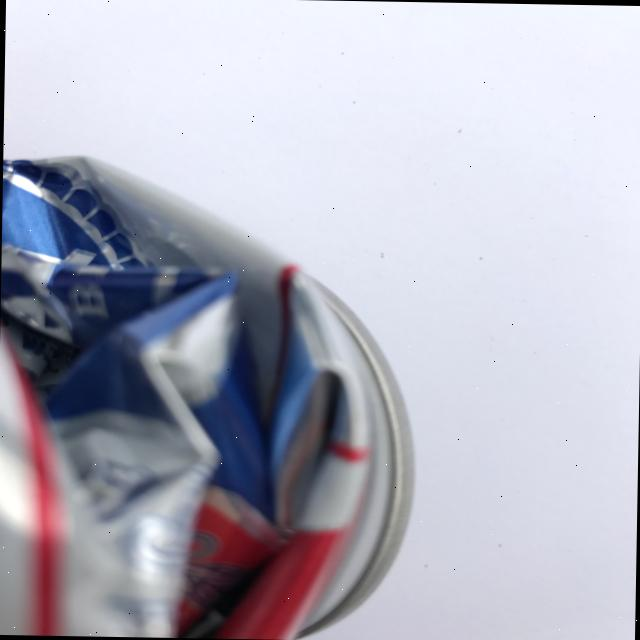metal: (0, 152, 420, 640)
